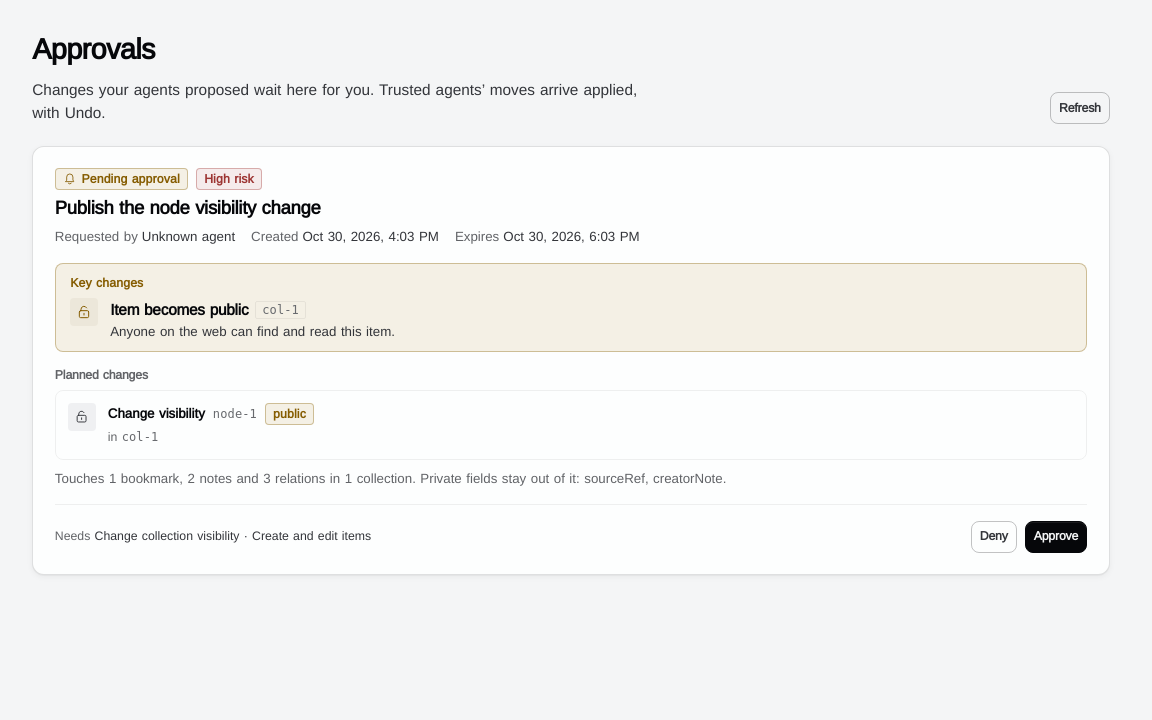
Test: MCP-W08 Write approvals page › denies a pending plan and abandons the completed intent
Click the button "Deny" at (994, 537), box x1=971 y1=521 x2=1017 y2=553
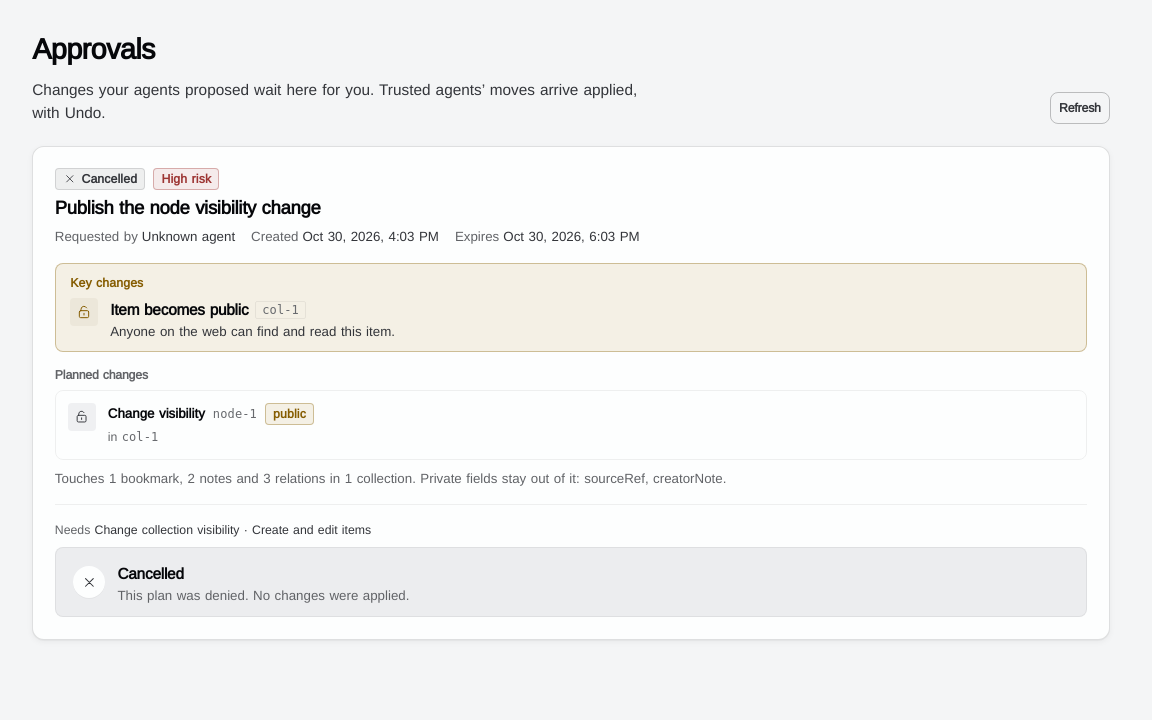
Now the text "Cancelled" is shown, box x1=55 y1=168 x2=145 y2=190
